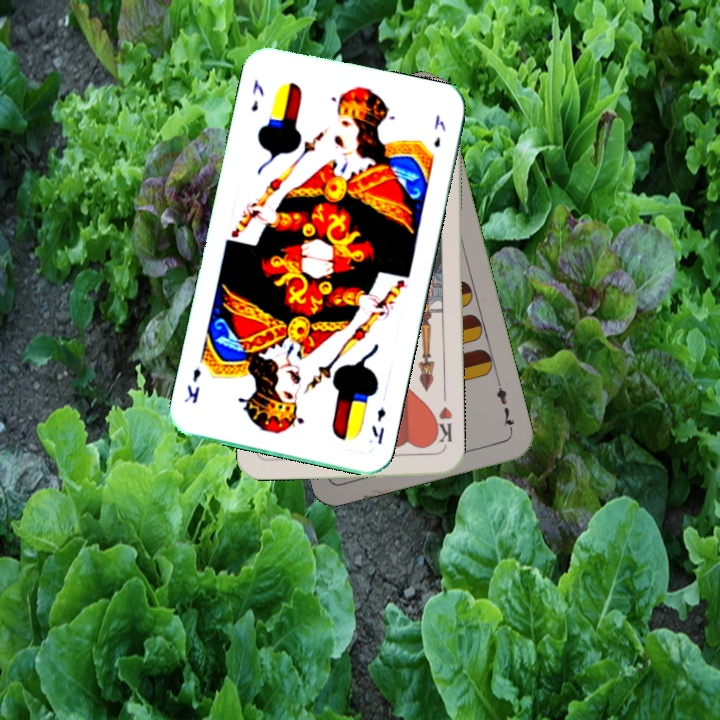E7: (492, 376, 517, 434)
EK: (367, 404, 388, 447), (247, 75, 267, 114)
HK: (429, 403, 455, 451)
